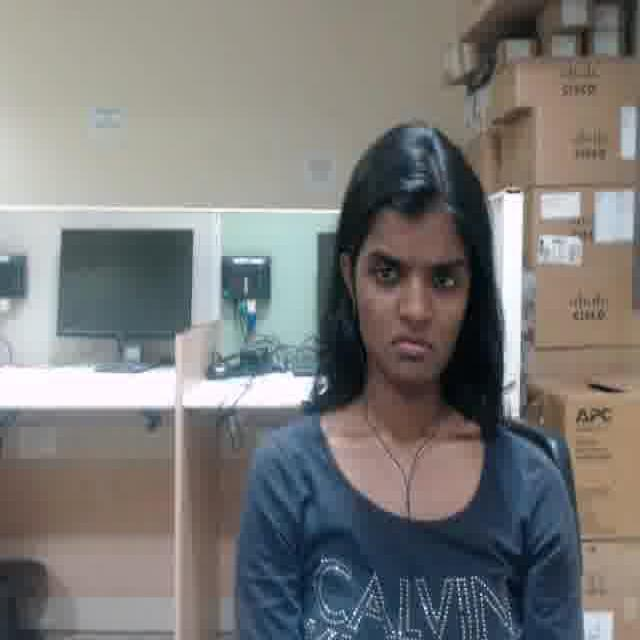Frustration: (353, 200, 466, 387)
